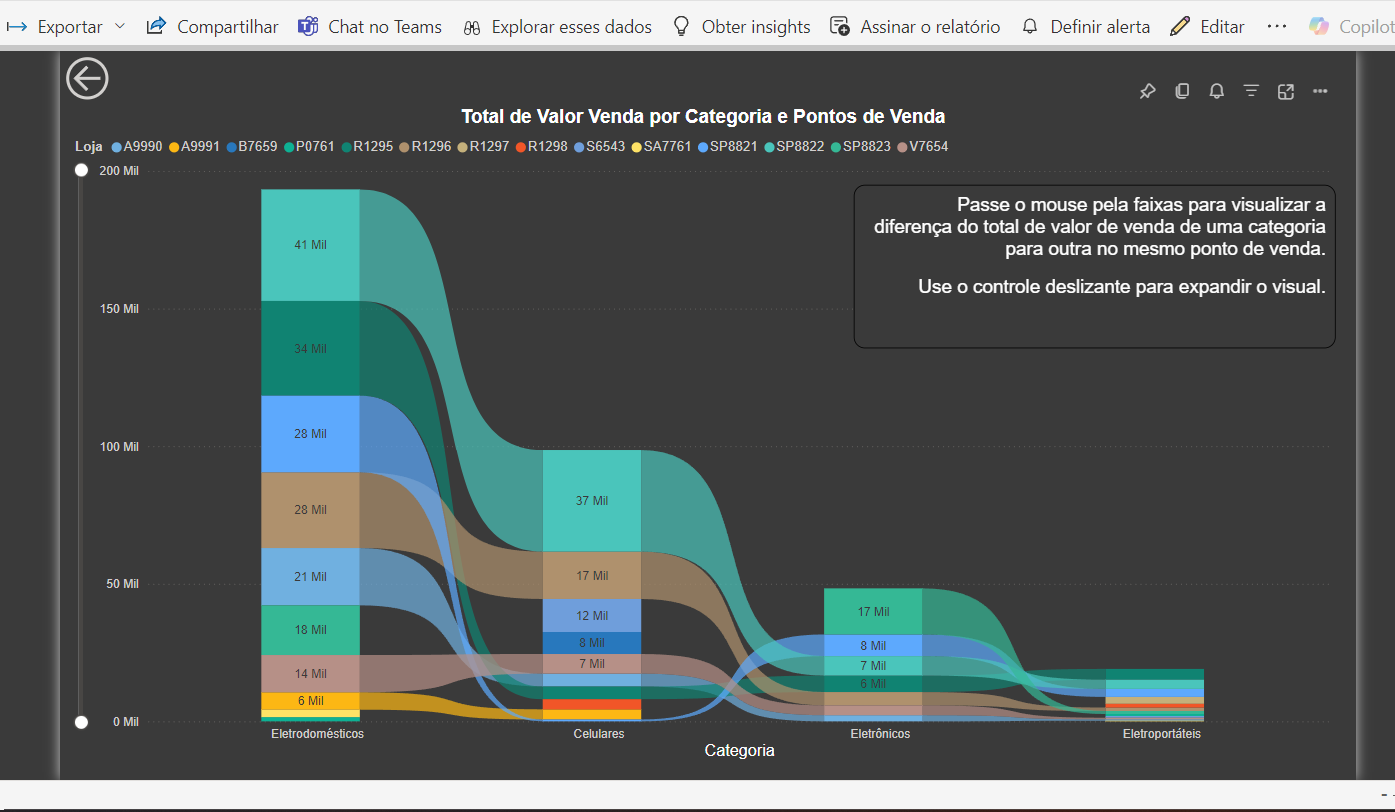

The dashboard page shown, as its layout file describes it:
{"tool":"powerbi","page":{"name":"Faixas de Vendas Por Categoria","canvas":[1280,720],"ordinal":3},"visuals":[{"type":"ribbonChart","title":"Total de Valor Venda por Categoria e Pontos de Venda","fields":{"Category":["Vendas.Categoria"],"Y":["Sum(Vendas.ValorVenda)"],"Series":["Vendas.Loja"]},"box":[9.8,54,1250.3,650.3],"z":0},{"type":"textbox","box":[783.5,131.7,476.2,161.9],"z":1000},{"type":"actionButton","box":[0,0,99.4,54],"z":2000}]}

Visuals, with their boxes on the page's 1280x720 design canvas (x1, y1, x2, y2). These are canvas units, not pixel positions in the 1395x812 screenshot, which may show the page scaled, cropped or inside an application window:
"Total de Valor Venda por Categoria e Pontos de Venda" ribbonChart: 10 54 1260 704
textbox: 784 132 1260 294
actionButton: 0 0 99 54
